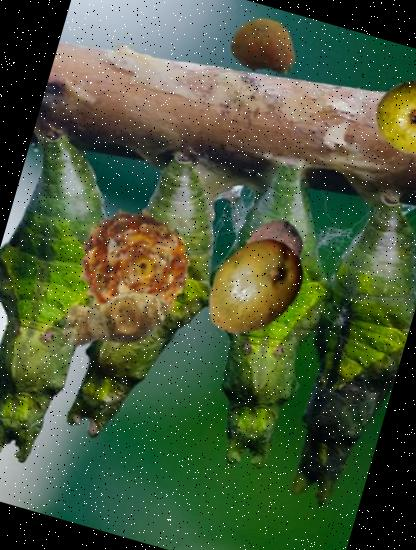Cocos: (228, 207, 316, 294)
Ginger: (46, 250, 186, 391)
Guava: (365, 66, 416, 167)
Papaya: (186, 220, 322, 355)
Pineapple: (55, 190, 210, 345)
Potato: (222, 3, 306, 88)
